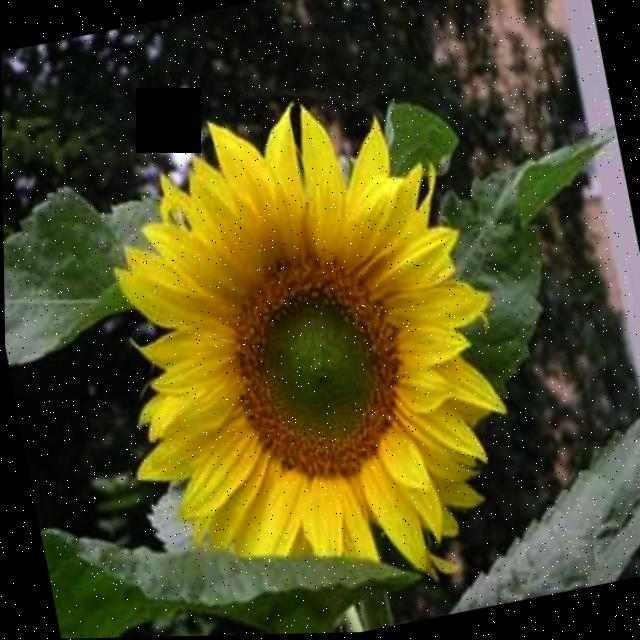sunflower: (90, 29, 527, 633)
